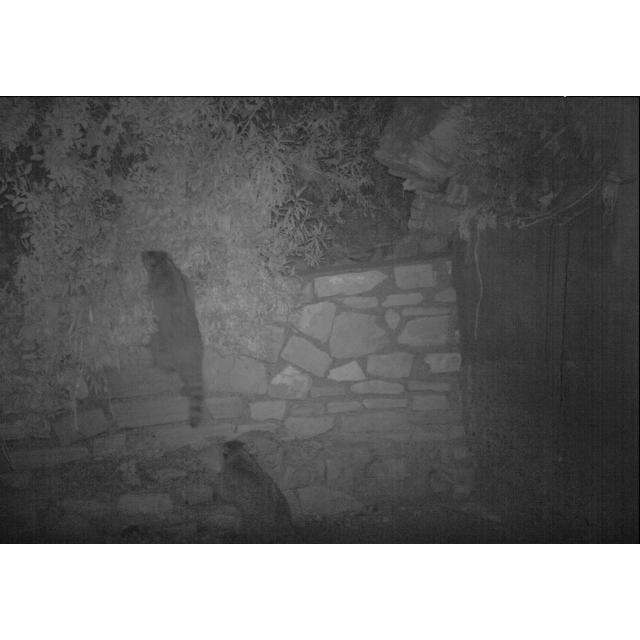animals: (140, 248, 208, 430)
